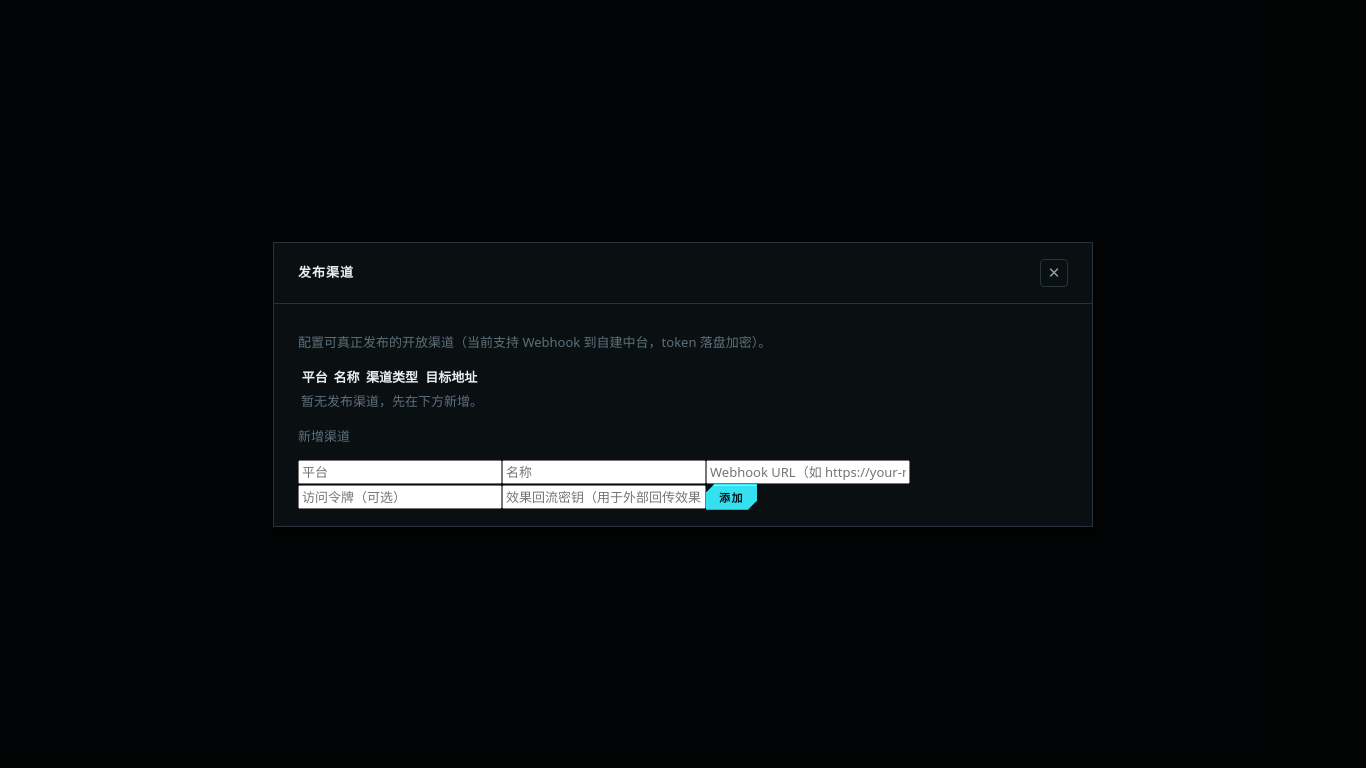
Test: PublishTargets › blocks adding when platform or url is missing
Note: only platform, no url
Type "wechat" into the field with placeholder "平台" at (400, 472), box [298,460,502,484]
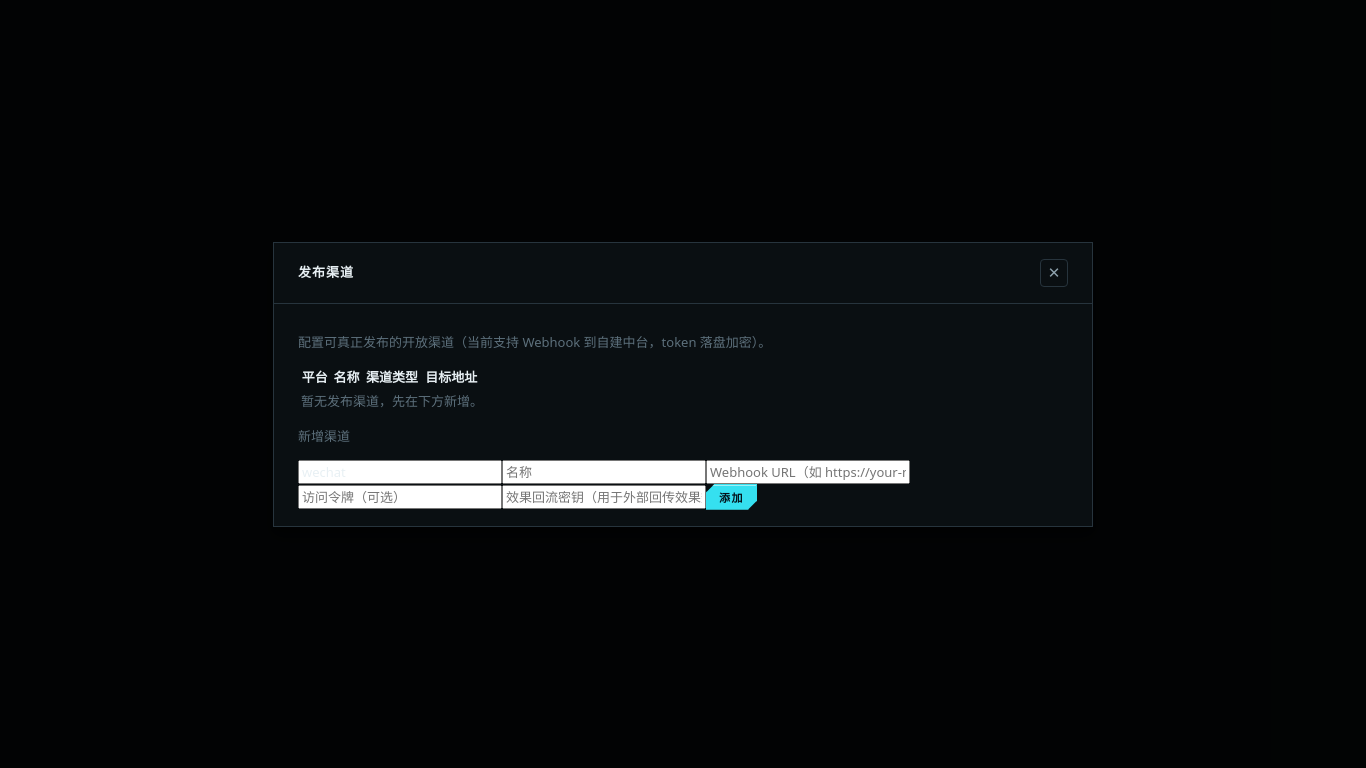
Click the button "添加" at (732, 496), box [706,484,757,510]
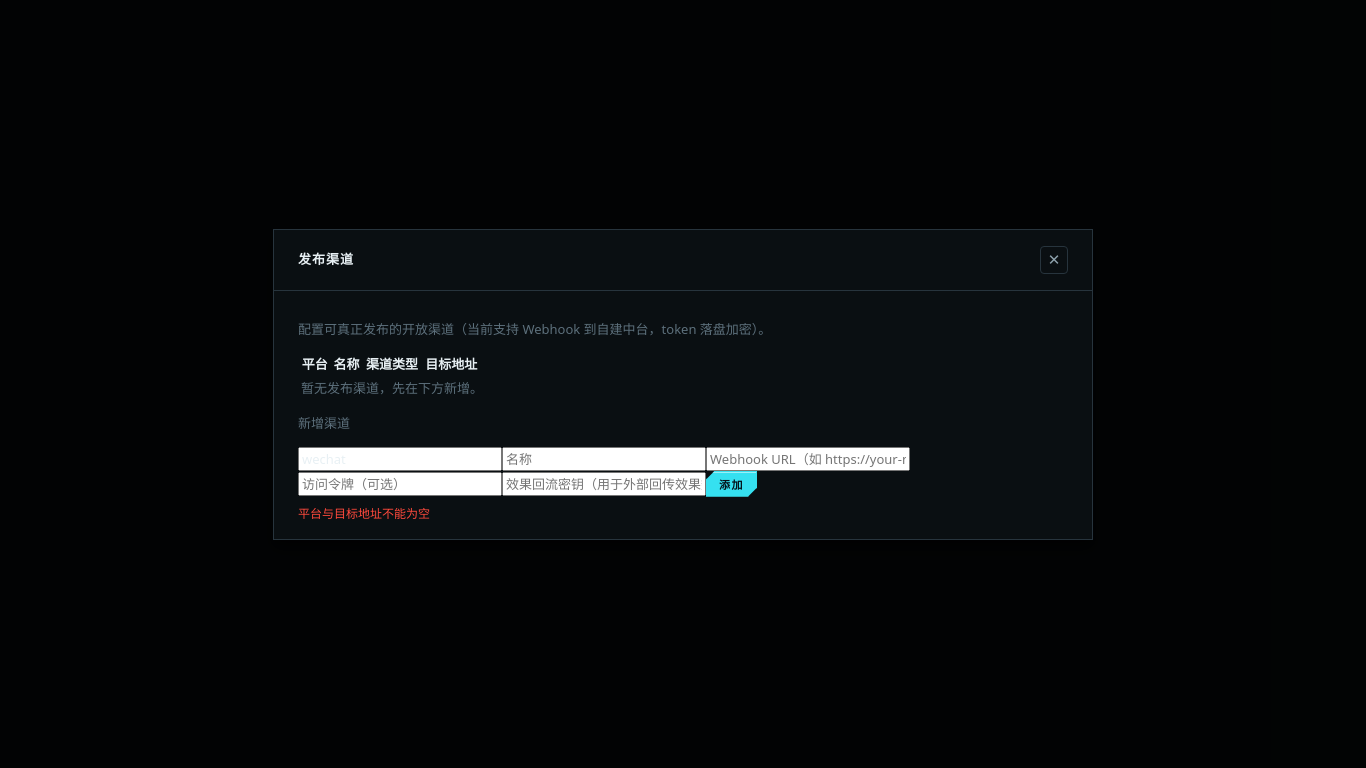
Result: the text "平台与目标地址不能为空" is shown at [298,504,430,522]
